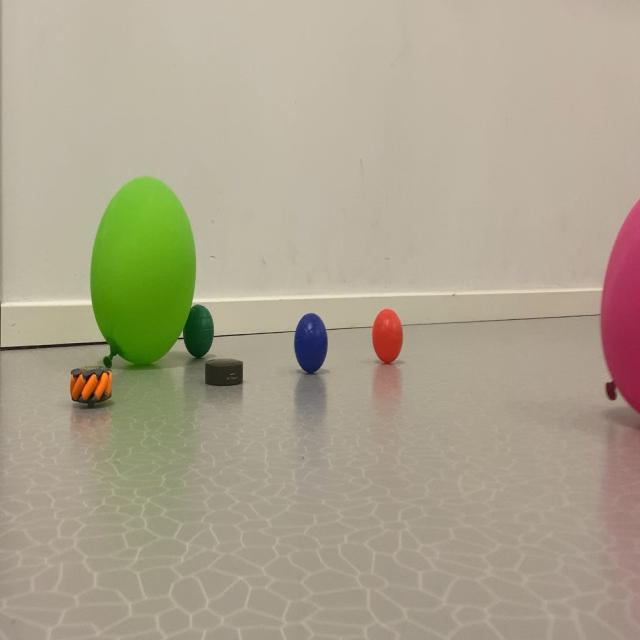7: (370, 294, 433, 390)
green ball: (292, 301, 348, 404)
red ball: (182, 282, 228, 364)
